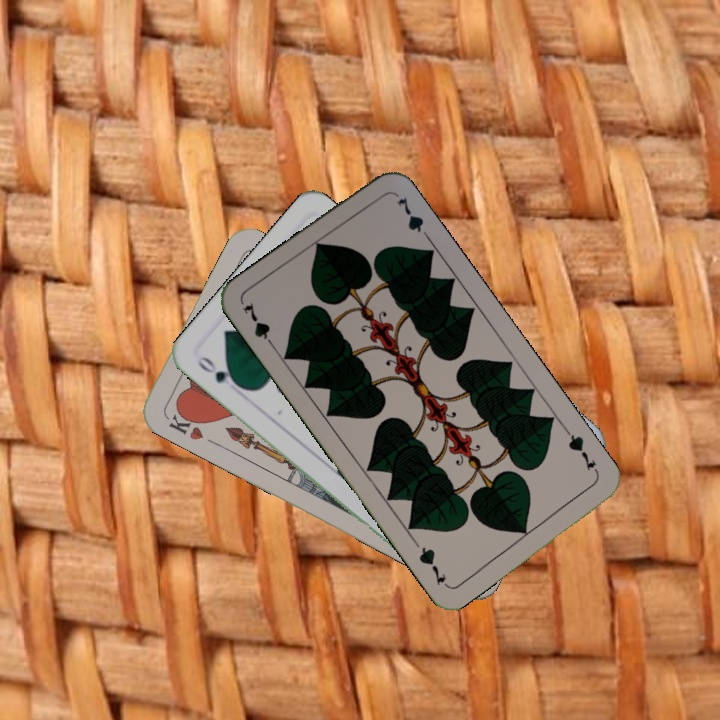G7: (239, 298, 279, 353), (562, 426, 602, 478)
GO: (193, 352, 245, 391)
HK: (164, 405, 207, 443)
